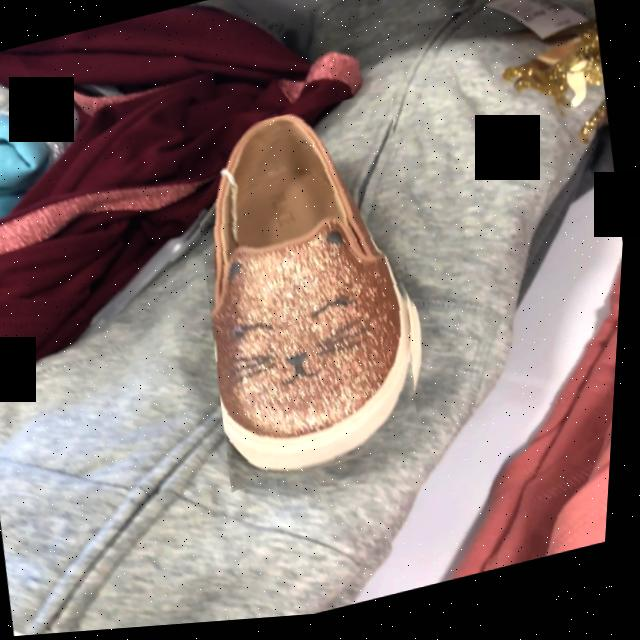shoe: (215, 119, 417, 479)
